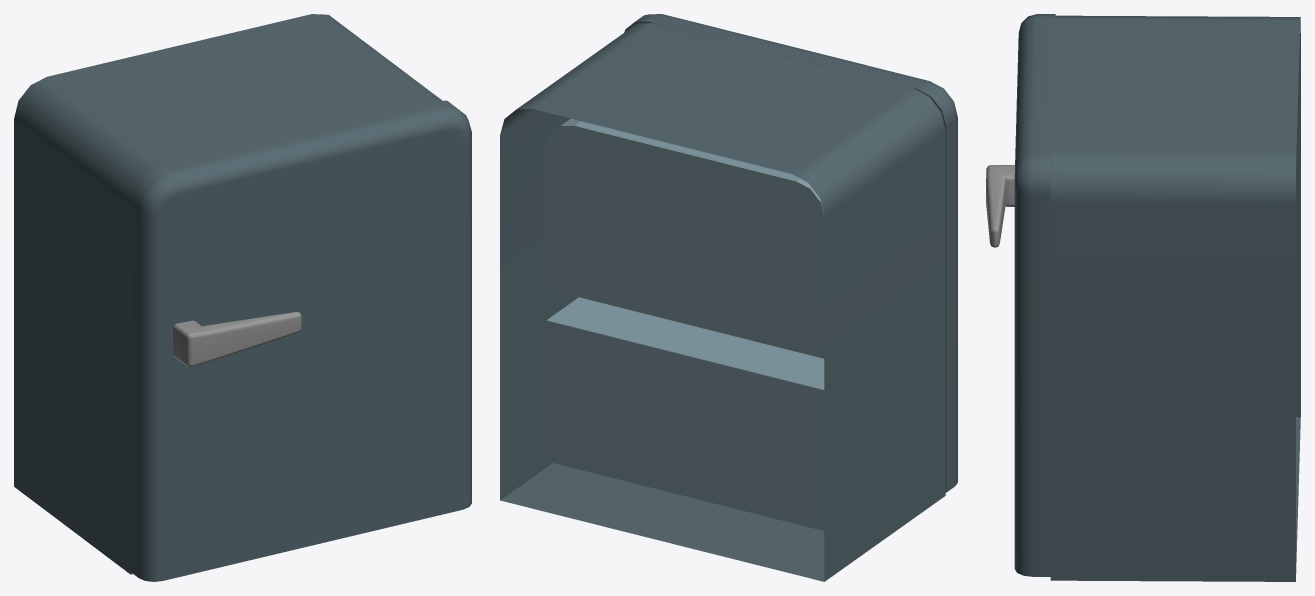
File: Nevera.fbx
3 renders of one model, left to right at view 1: azimuth 30°, elevation 25°; view 2: azimuth 150°, elevation 25°; view 3: azimuth 270°, elevation 25°, orthographic. The views are drawn at different scales.
Parts seen in each view (by area): view 1: PuertaNevera1, Nevera1; view 2: Nevera1, PuertaNevera1; view 3: Nevera1, PuertaNevera1.
Boxes of the visible parts, box(x1,y1,x2,y2) form: PuertaNevera1: box(130, 100, 471, 581); Nevera1: box(14, 14, 441, 574); Nevera1: box(500, 23, 945, 581); PuertaNevera1: box(624, 14, 957, 492); Nevera1: box(1050, 15, 1300, 581); PuertaNevera1: box(986, 14, 1055, 576).
Bounding box in the file's own units: 108 × 124 × 85.86.
